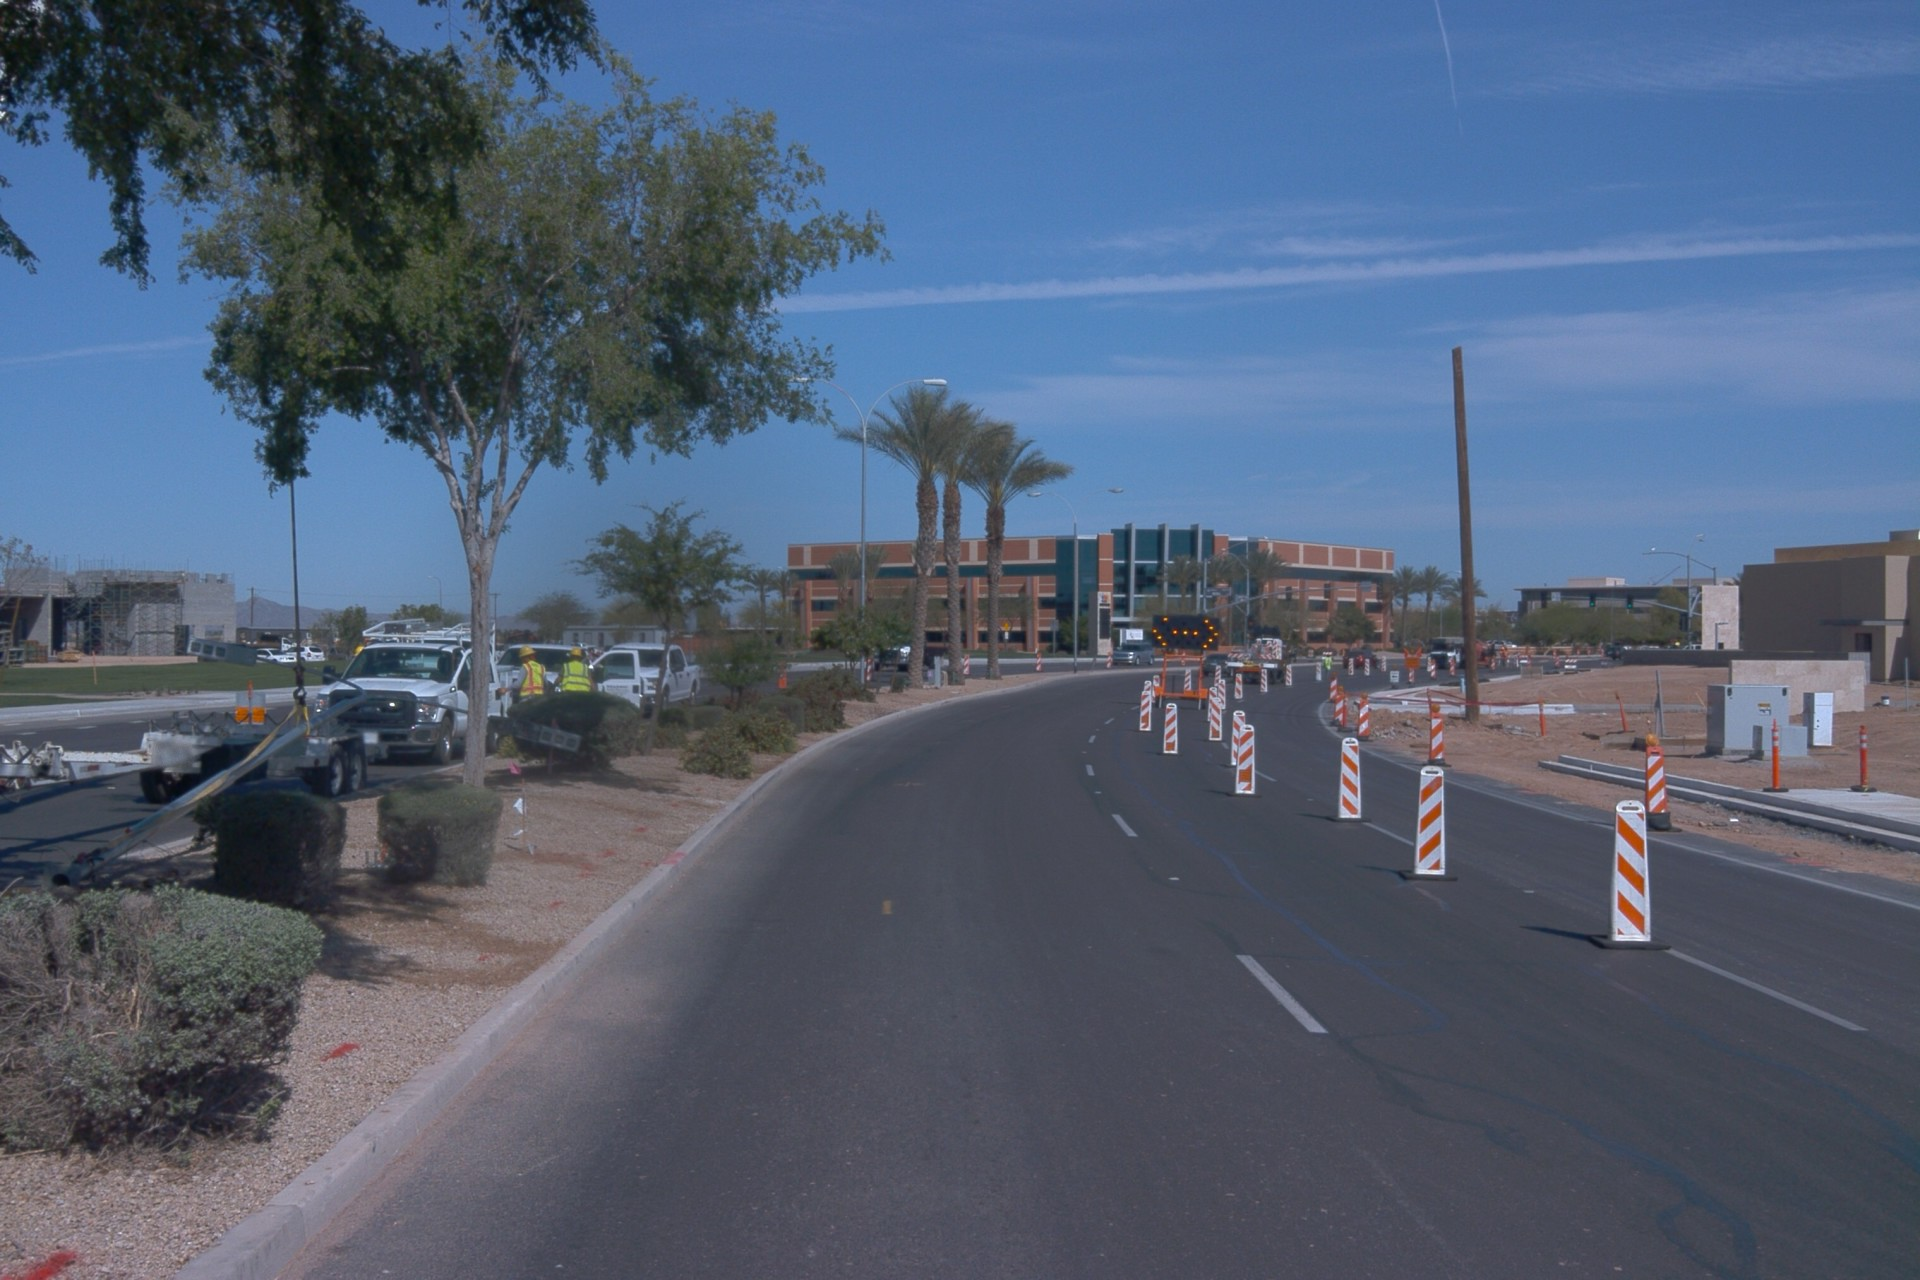TYPE_PEDESTRIAN: (496, 645, 550, 705), (551, 649, 596, 695), (1320, 651, 1331, 680)
TYPE_VEHICLE: (6, 623, 592, 896), (300, 627, 501, 777), (359, 612, 514, 724), (597, 634, 707, 723), (1143, 608, 1226, 715), (495, 643, 596, 709), (1220, 620, 1298, 685), (1422, 634, 1498, 674), (874, 629, 936, 675), (252, 642, 299, 668), (1111, 644, 1156, 670), (322, 635, 356, 669), (1254, 631, 1298, 657), (197, 644, 249, 665), (1342, 643, 1381, 669), (281, 642, 326, 664), (1201, 652, 1237, 679), (244, 635, 297, 653), (1683, 639, 1709, 652)
